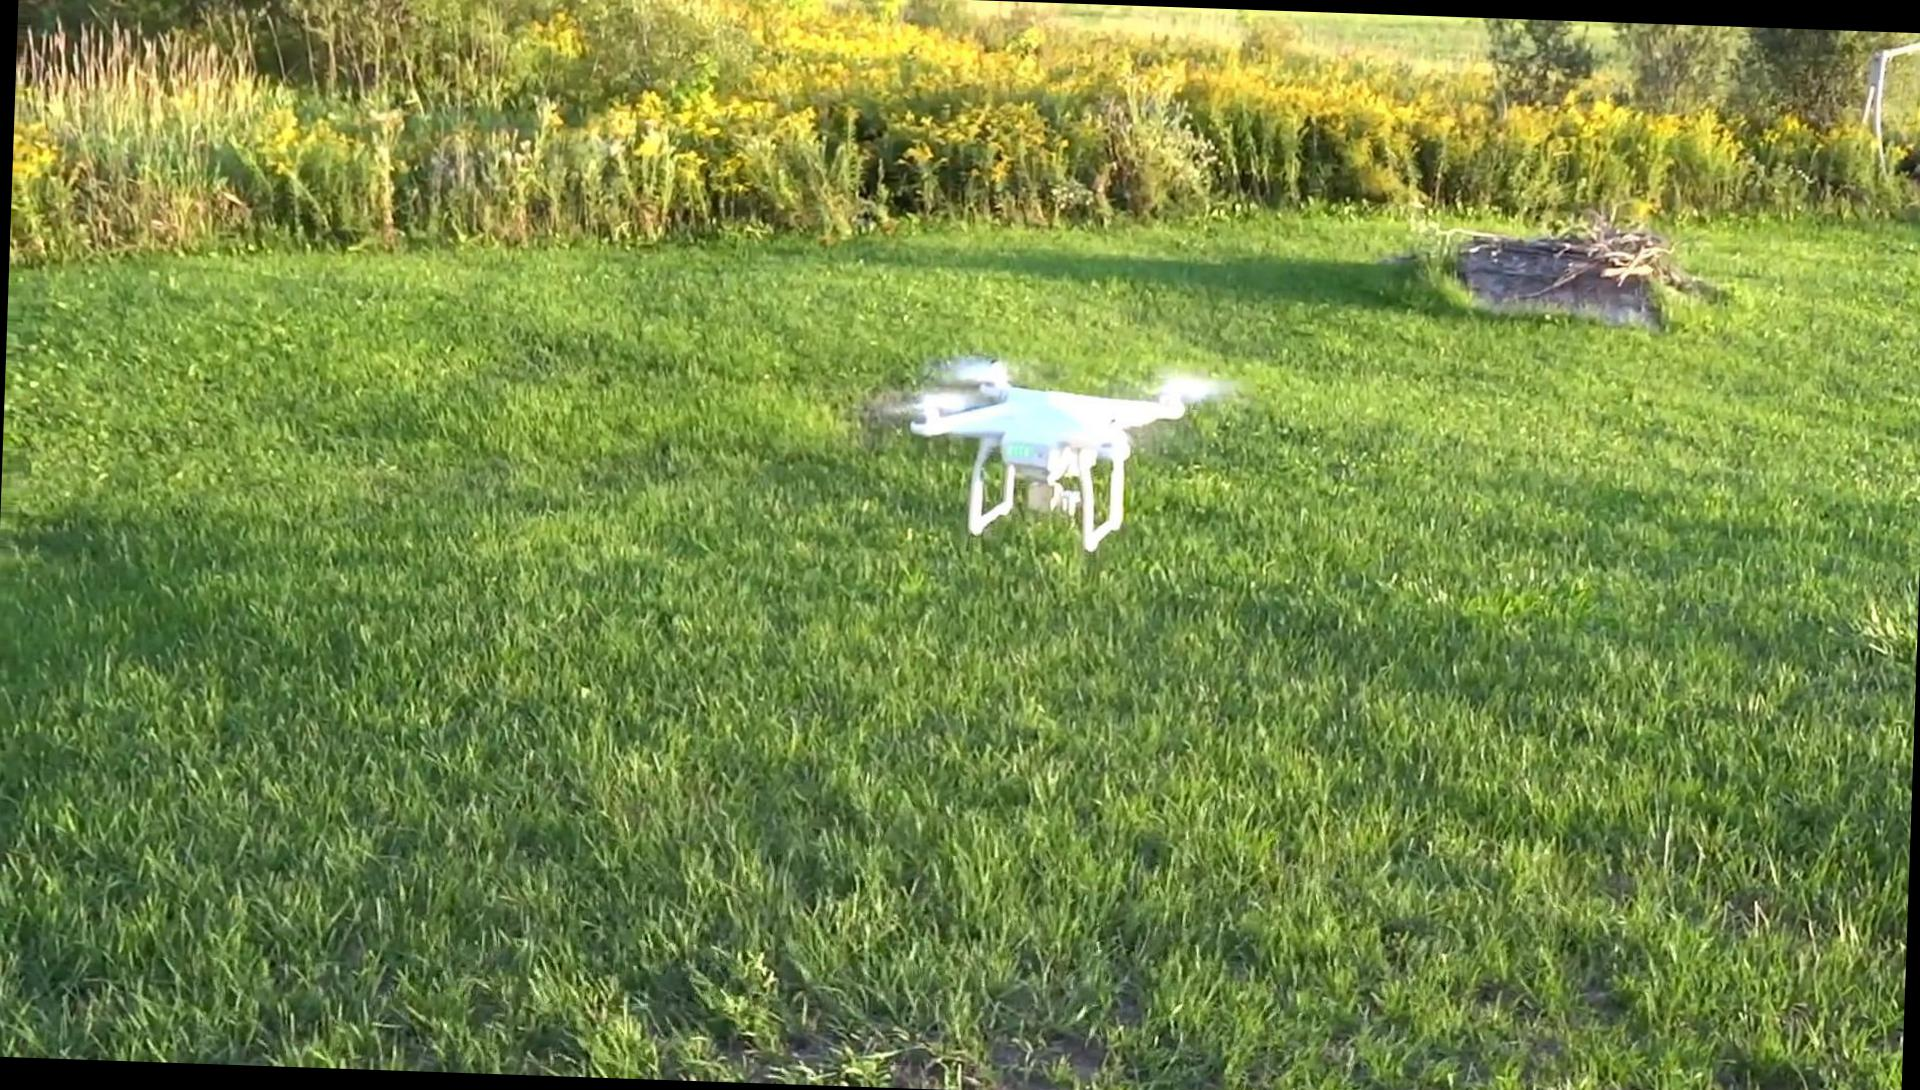drone: (880, 343, 1217, 560)
